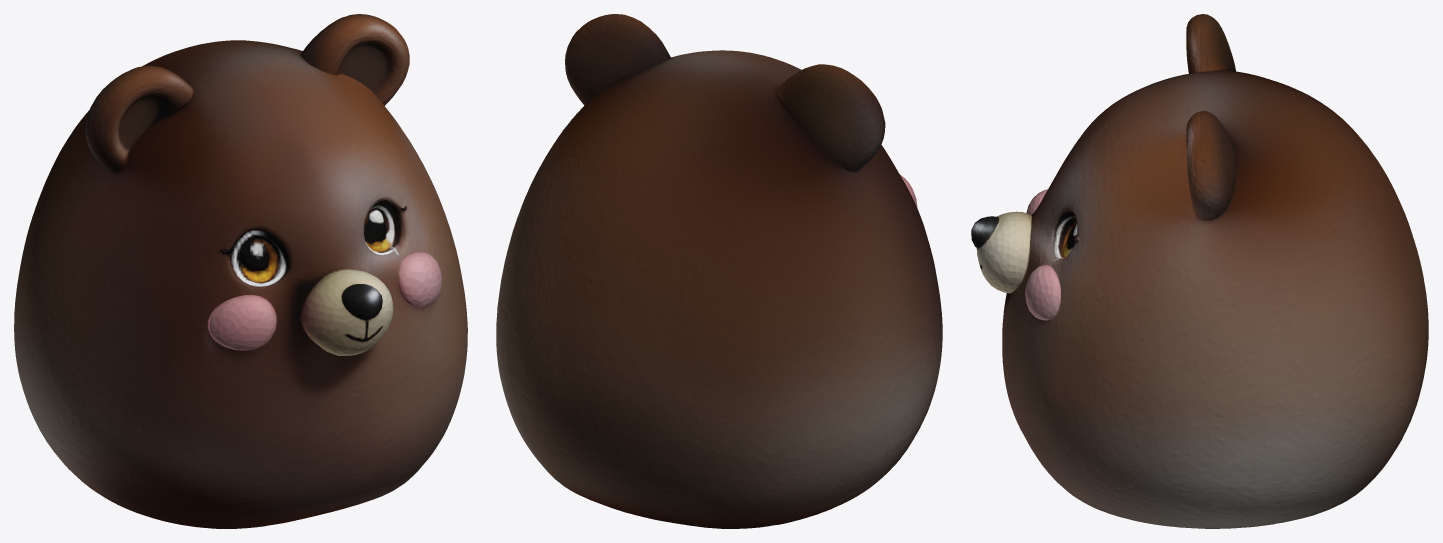
The model's file is char_bori.glb.
3 renders of one model, left to right at view 1: azimuth 30°, elevation 25°; view 2: azimuth 150°, elevation 25°; view 3: azimuth 270°, elevation 25°, orthographic. The views are drawn at different scales.
Visible parts, largest first — view 1: world; view 2: world; view 3: world.
Boxes of the visible parts, bbox=[...] form: world: bbox=[14, 14, 467, 528]; world: bbox=[496, 14, 942, 528]; world: bbox=[971, 14, 1428, 528].
Size of the model in its own units: 0.9276 by 0.9949 by 0.9991.
1 material, 1 textured.
